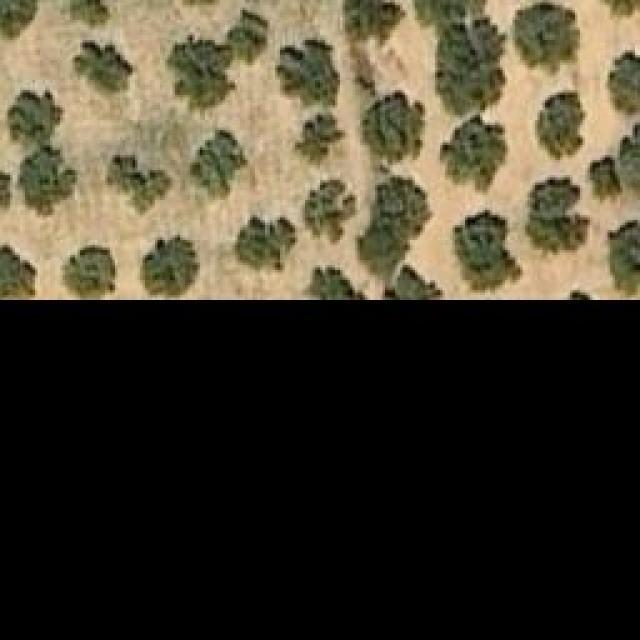Tree: (168, 7, 268, 115), (358, 177, 433, 275), (436, 20, 504, 112), (452, 210, 520, 293), (523, 175, 588, 258), (443, 118, 503, 195), (363, 93, 426, 166), (275, 40, 340, 110), (235, 202, 298, 270), (190, 130, 248, 200), (108, 155, 173, 215), (305, 180, 358, 248), (515, 5, 575, 65), (20, 148, 74, 212), (2, 87, 61, 145), (70, 43, 133, 96), (143, 238, 198, 298), (537, 92, 585, 160), (63, 245, 118, 298), (295, 112, 345, 170), (343, 0, 406, 40), (605, 50, 640, 120), (607, 222, 640, 295), (60, 0, 135, 28), (0, 243, 38, 298), (303, 265, 366, 298), (405, 0, 491, 23), (622, 103, 640, 206), (0, 0, 38, 48), (385, 268, 445, 298), (590, 155, 618, 203), (597, 0, 640, 15)
